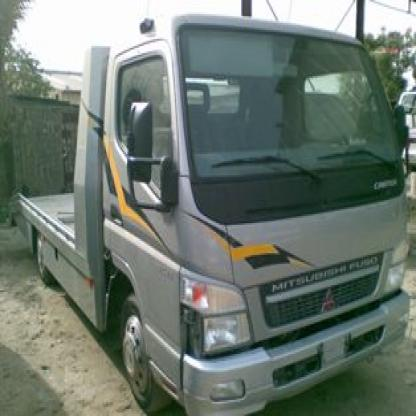truck: (16, 12, 411, 415)
